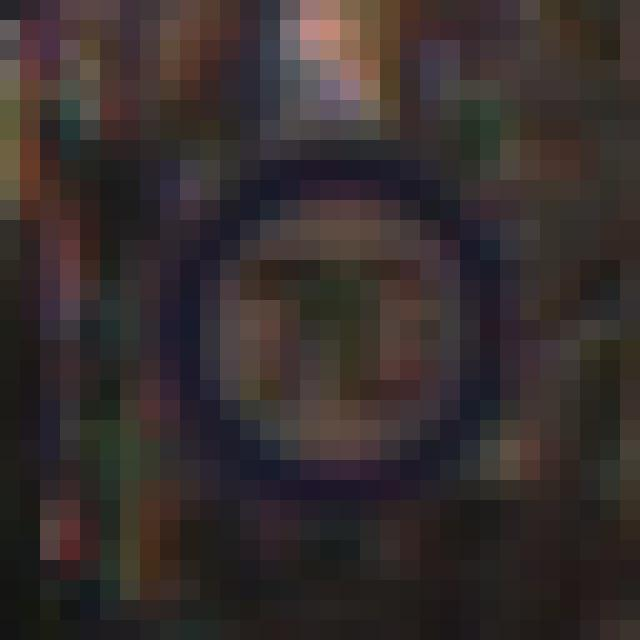SPEED LIMIT 70: (181, 168, 518, 502)
